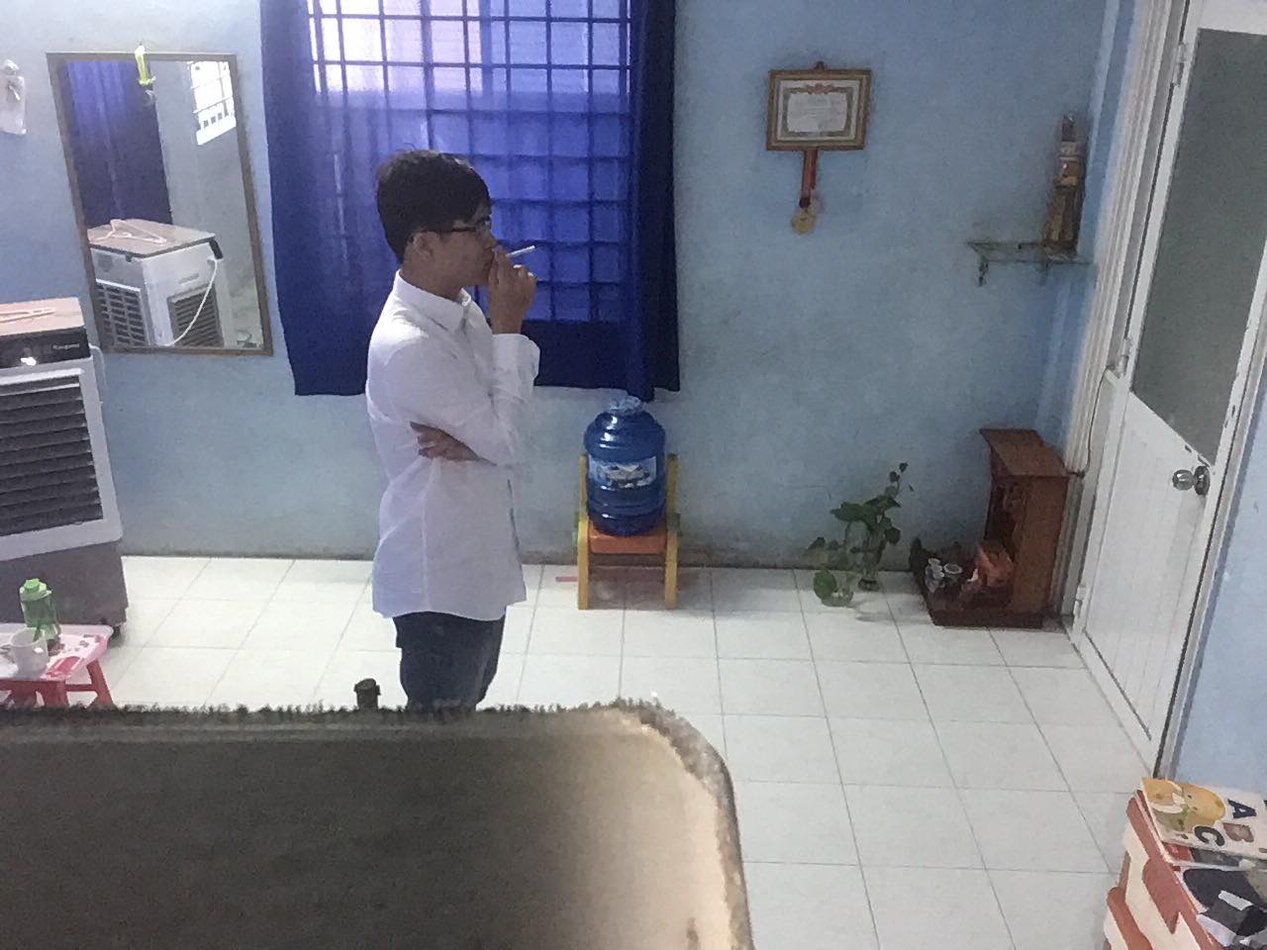cigarette: (496, 246, 546, 264)
person: (329, 141, 611, 718)
